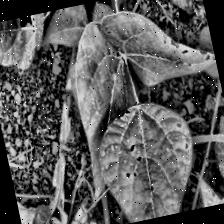ALS: (90, 95, 205, 224), (98, 0, 218, 92), (0, 9, 66, 73)
